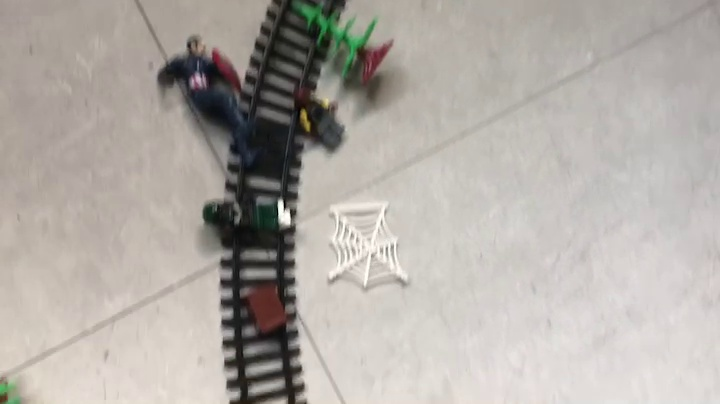box: (245, 284, 289, 339)
people: (156, 35, 271, 168), (202, 197, 294, 246), (287, 90, 348, 154)
tree: (289, 1, 395, 88)
web: (325, 202, 409, 290)
